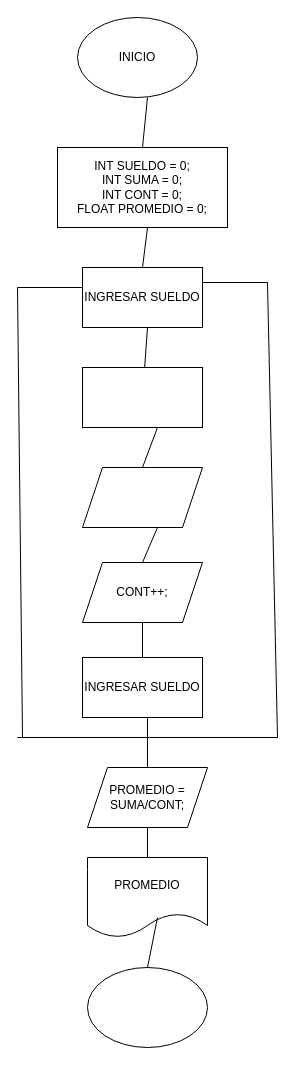
The diagram is 296 pixels wide and 1065 high, and some of its shapes have lost their labels. The shapes that lost their labels are listed below. From the top down, each one's box as (x1, y1, x2, y2) in pixels, then its label:
(82, 366, 202, 428): SUELDO >= 0
(82, 466, 202, 528): SUMA = SUMA + SUELDO
(86, 966, 208, 1048): FIN
